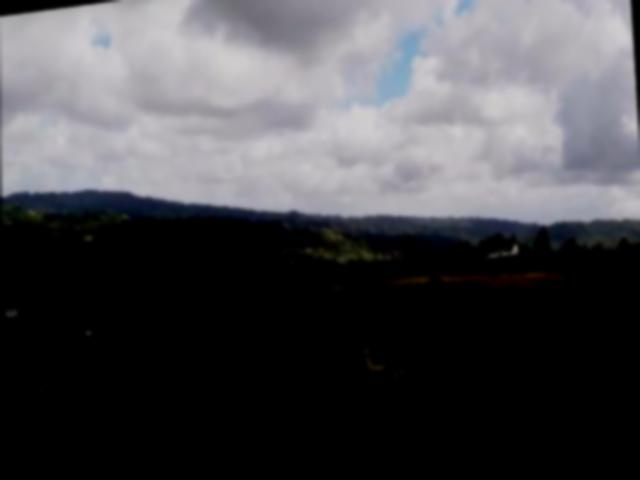iha: (475, 237, 521, 273)
